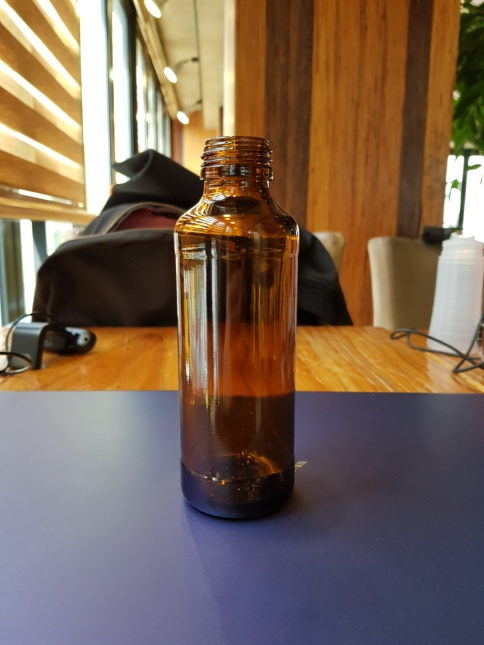Glass: (170, 134, 301, 518)
